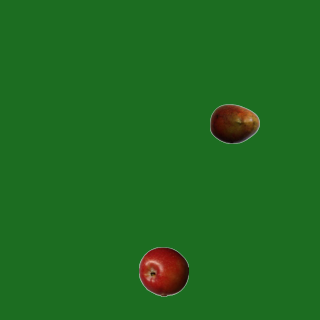Apple Braeburn: (138, 246, 188, 296)
Mango Red: (209, 98, 259, 148)
